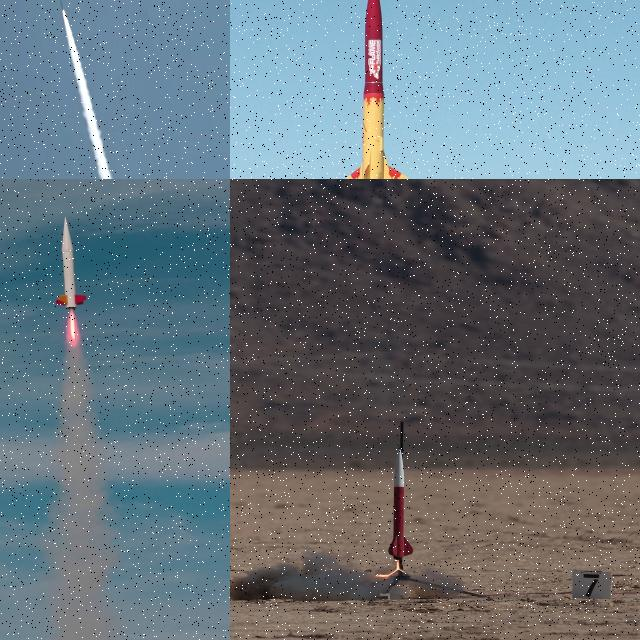Rocket: (345, 0, 409, 179), (55, 216, 88, 310), (388, 446, 413, 560), (60, 0, 65, 10)
